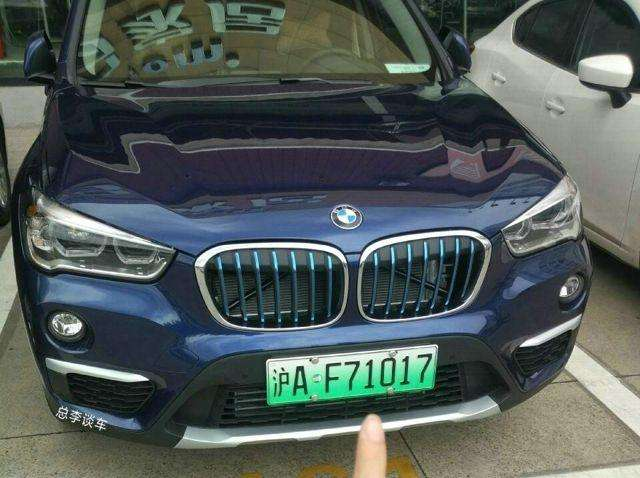plate: (252, 330, 452, 417)
